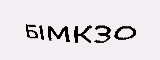І: (37, 23, 47, 41)
Б: (23, 22, 41, 42)
З: (94, 19, 112, 47)
К: (74, 19, 93, 45)
М: (47, 21, 74, 44)
О: (115, 21, 138, 46)
